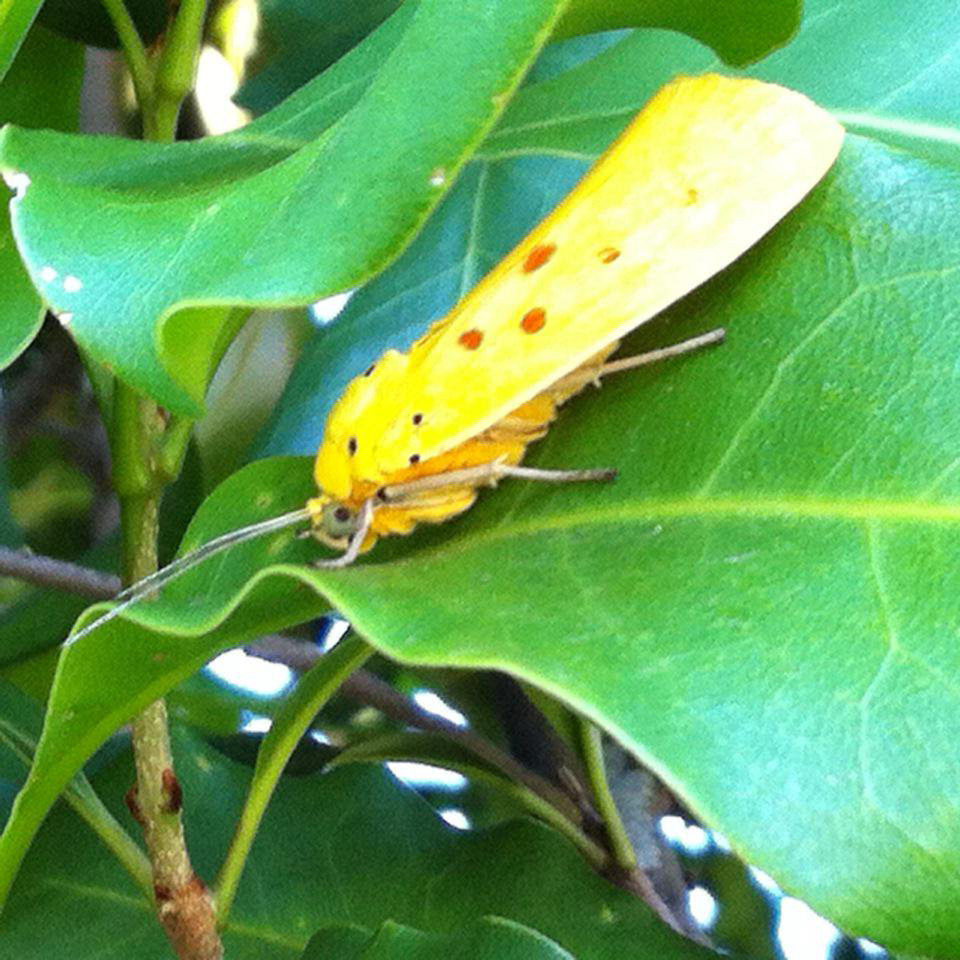Agape chloropyga: (46, 66, 844, 642)
moth: (48, 68, 846, 644)
